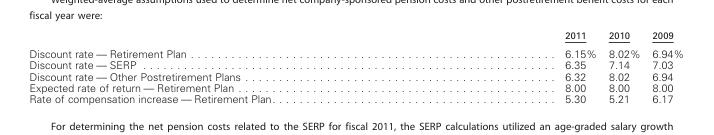table: (28, 29, 683, 104)
table column: (28, 29, 419, 104), (419, 29, 601, 104), (601, 29, 645, 104), (645, 29, 683, 104)
table column header: (28, 29, 683, 43)
table row: (28, 43, 683, 58), (28, 29, 683, 43), (28, 69, 683, 81), (28, 92, 683, 104), (28, 58, 683, 69), (28, 81, 683, 92)
